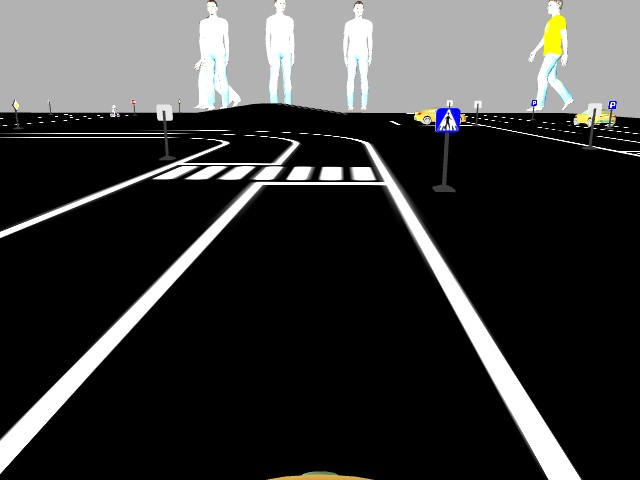Crosswalk: (434, 107, 459, 130)
Parking: (607, 99, 617, 109)
